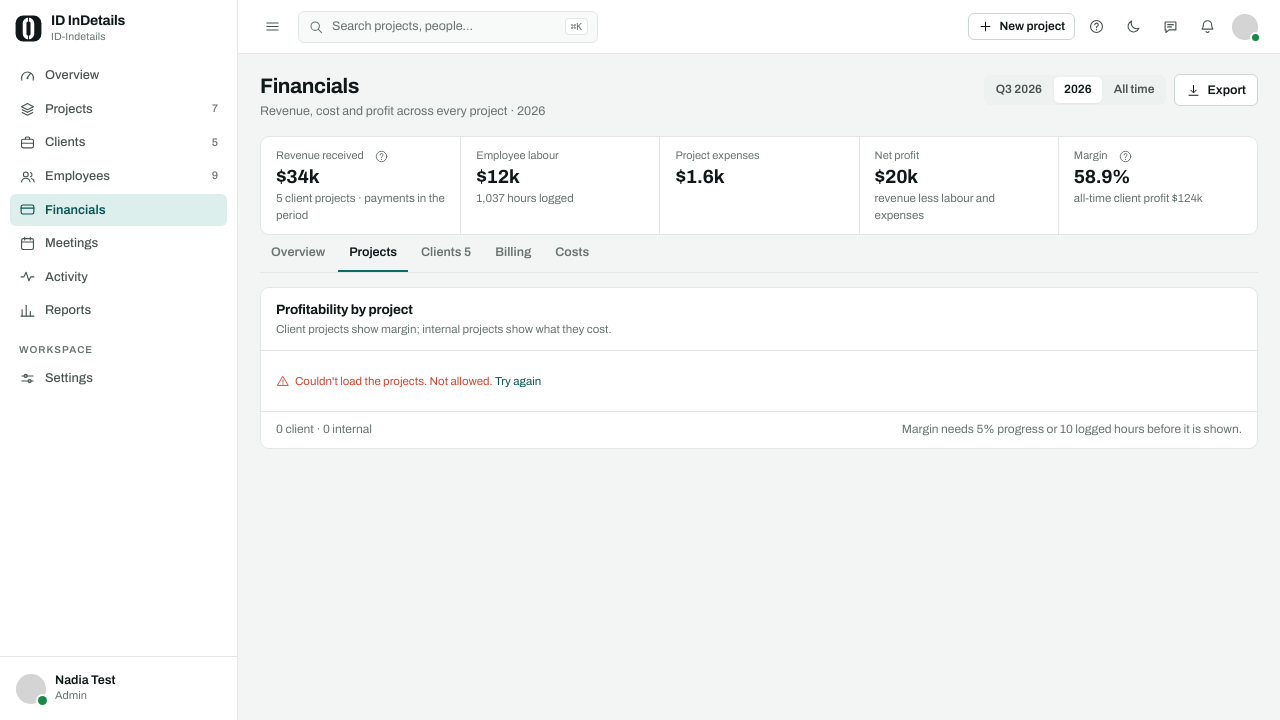
Test: Financials › says so where figures don't load, and keeps the rest
Expected: the text "Couldn't load the projects. Not allowed. Try again" is shown, [295,373,541,390]
Click the tab "Clients 5" at (446, 254), box [410,236,482,272]
(page scrolled)
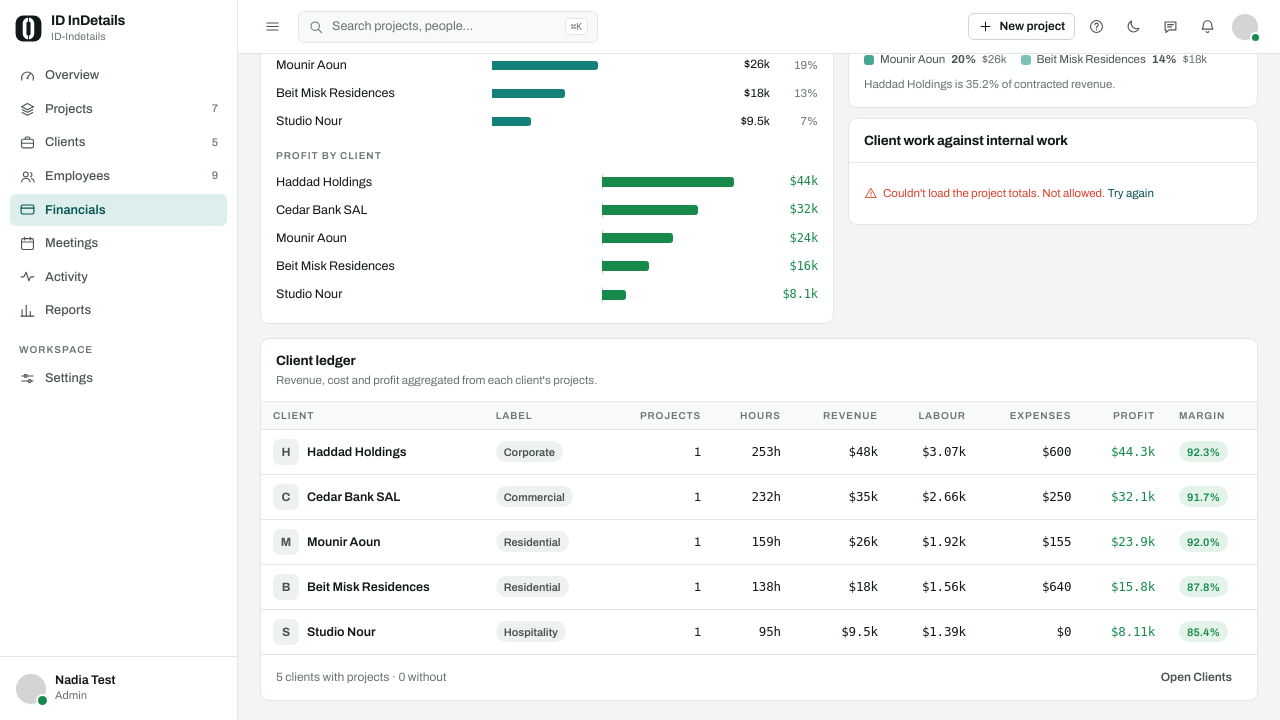
Result: the text "Couldn't load the project totals. Not allowed. Try again" is shown at [883,185,1154,202]
Result: the text "Client ledger" is shown at [276,353,356,368]
